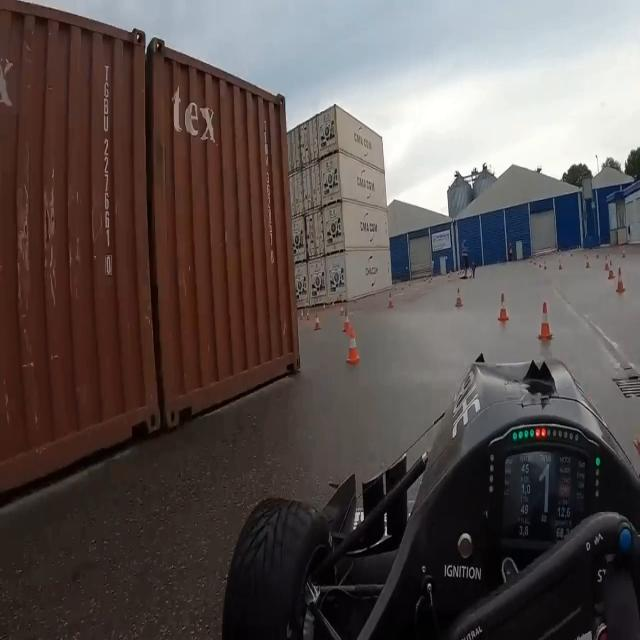Orange cone: (336, 314, 371, 377), (532, 295, 559, 348), (496, 286, 513, 330), (451, 283, 470, 316), (382, 290, 404, 318), (309, 306, 328, 338), (603, 256, 620, 290), (614, 266, 626, 298), (550, 251, 565, 270), (297, 304, 306, 326), (331, 299, 340, 316), (528, 255, 538, 270), (338, 302, 346, 317), (540, 258, 548, 272), (321, 299, 329, 313), (581, 258, 591, 268), (306, 310, 311, 323)
